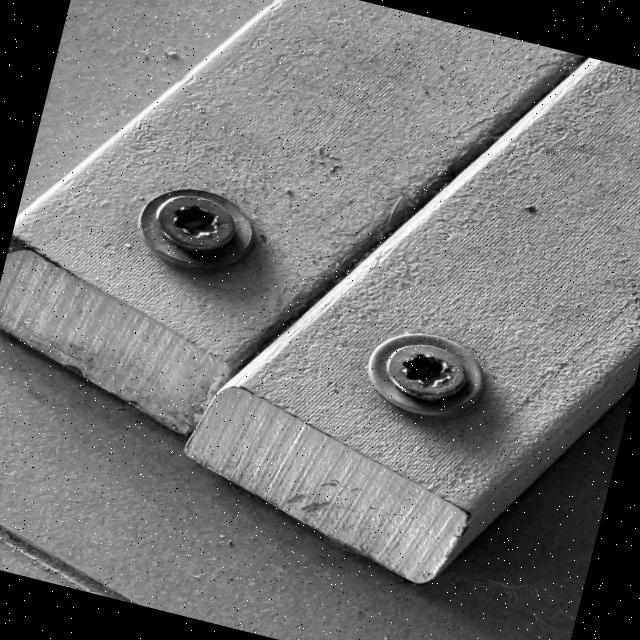Torx: (150, 178, 242, 262), (382, 338, 472, 409)
